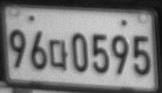0: (71, 32, 88, 72)
5: (91, 33, 110, 74), (132, 35, 151, 75)
6: (29, 30, 48, 70)
9: (110, 34, 130, 74), (8, 28, 26, 68)
다: (49, 38, 69, 71)
